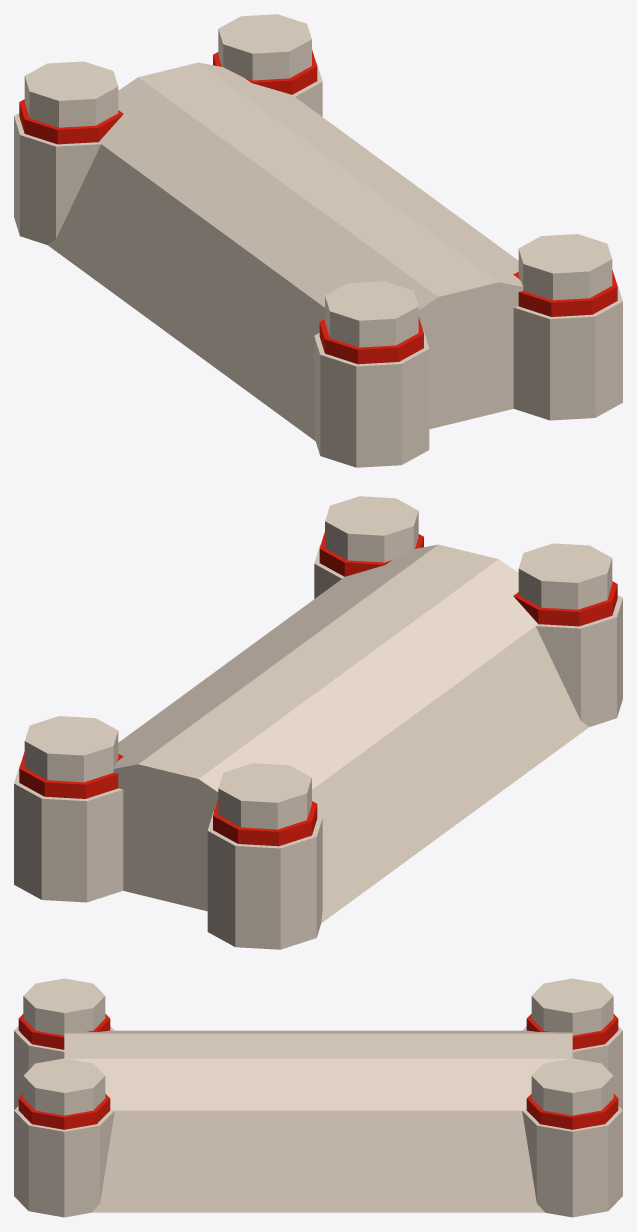
File: smallStorage.fbx
3 views of the same model, one above another, from view 1: azimuth 30°, elevation 25°; view 2: azimuth 150°, elevation 25°; view 3: azimuth 270°, elevation 25° (orthographic). The views are drawn at different scales.
Visible parts, largest first — view 1: Small Storage Building; view 2: Small Storage Building; view 3: Small Storage Building.
Part boxes in pixels (<box>): Small Storage Building: <box>14,14,622,467</box>; Small Storage Building: <box>14,496,622,949</box>; Small Storage Building: <box>14,978,622,1217</box>.
Size of the model in its own units: 109 by 50.19 by 230.
